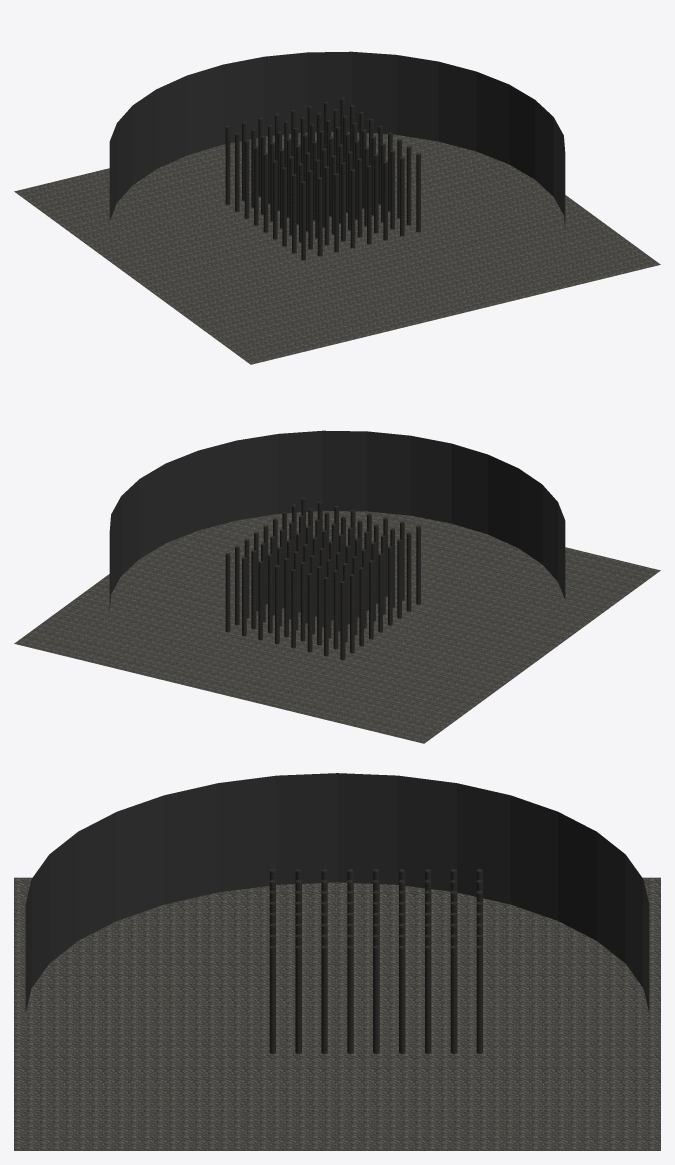
Rendered from stage-marblepillar.glb.
3 renders of one model, top to bottom at view 1: azimuth 30°, elevation 25°; view 2: azimuth 150°, elevation 25°; view 3: azimuth 270°, elevation 25°, orthographic. The views are drawn at different scales.
Visible parts, largest first — view 1: Plane, 反転円柱(円面抜き) (1); view 2: Plane, 反転円柱(円面抜き) (1); view 3: Plane, 反転円柱(円面抜き) (1), hashira (7), hashira, hashira (1), hashira (4), hashira (5), hashira (6), hashira (2), hashira (3), hashira (8).
Part boxes in pixels (x1,y1,x2,y2): Plane: (14, 132, 660, 364); 反転円柱(円面抜き) (1): (109, 51, 565, 230); Plane: (14, 510, 660, 743); 反転円柱(円面抜き) (1): (109, 430, 565, 609); Plane: (14, 877, 660, 1150); 反転円柱(円面抜き) (1): (25, 773, 649, 1012); hashira (7): (450, 945, 457, 1053); hashira: (269, 945, 275, 1053); hashira (1): (295, 945, 301, 1053); hashira (4): (373, 945, 379, 1053); hashira (5): (399, 945, 405, 1053); hashira (6): (425, 945, 431, 1053); hashira (2): (321, 945, 327, 1053); hashira (3): (347, 945, 353, 1053); hashira (8): (476, 945, 482, 1053).
Size of the model in its own units: 500 by 96.44 by 500.
Materials: 3 (2 with a texture image).
